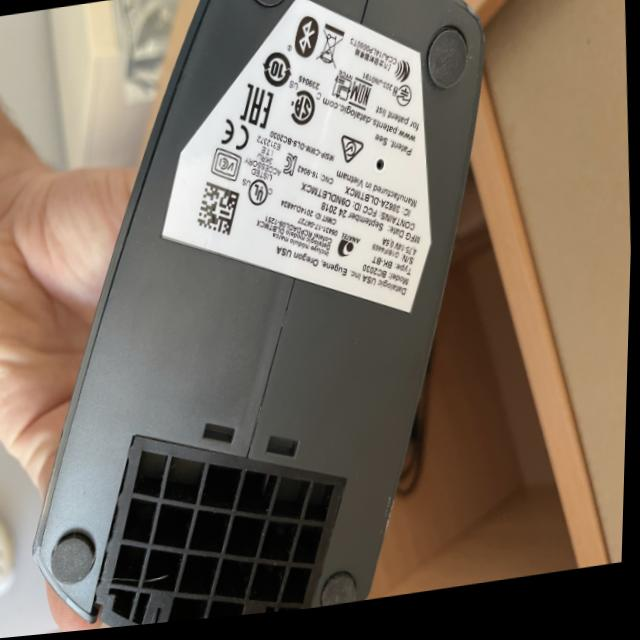datamatrix: (194, 181, 246, 249)
